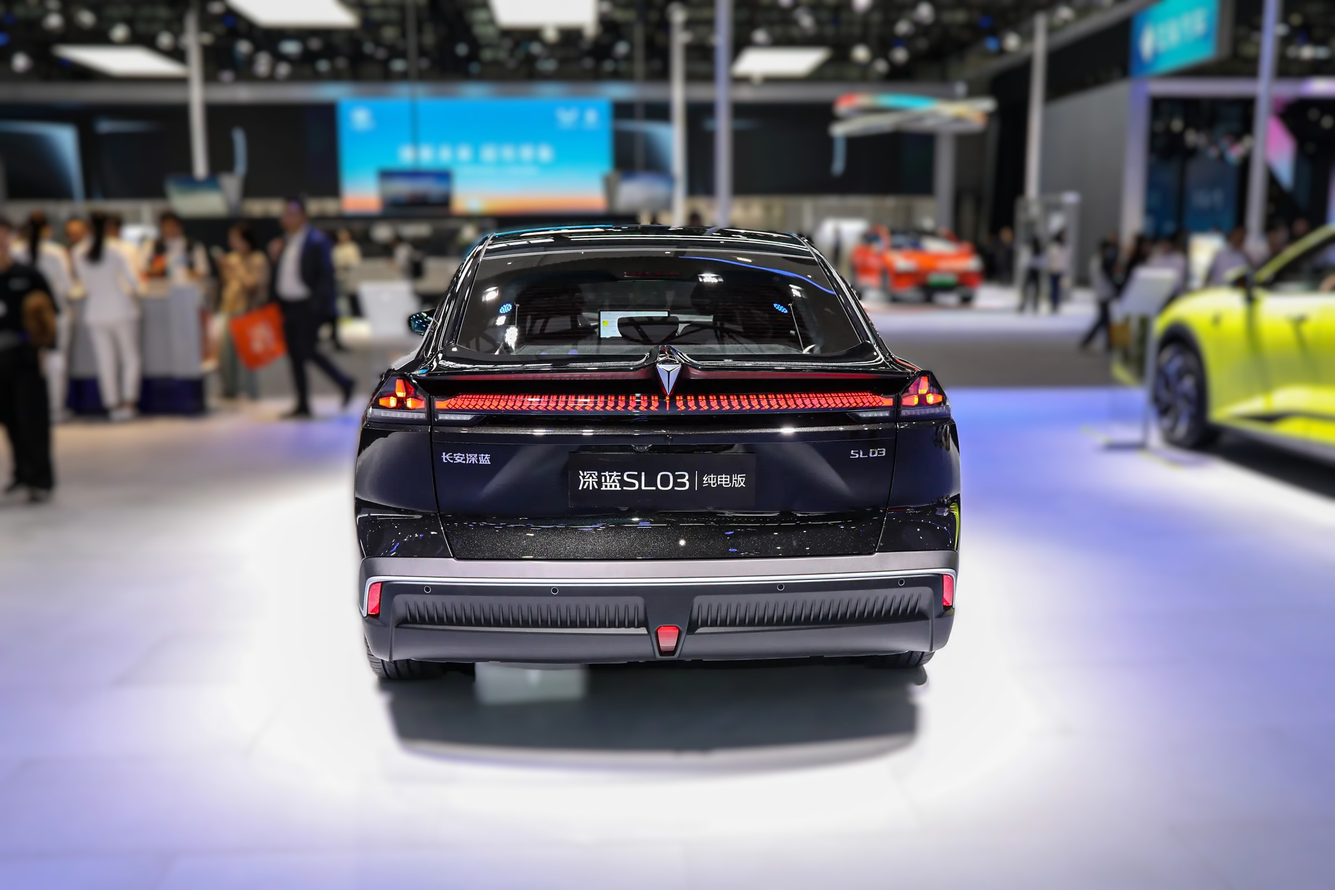Deepal: (657, 365, 681, 394)
